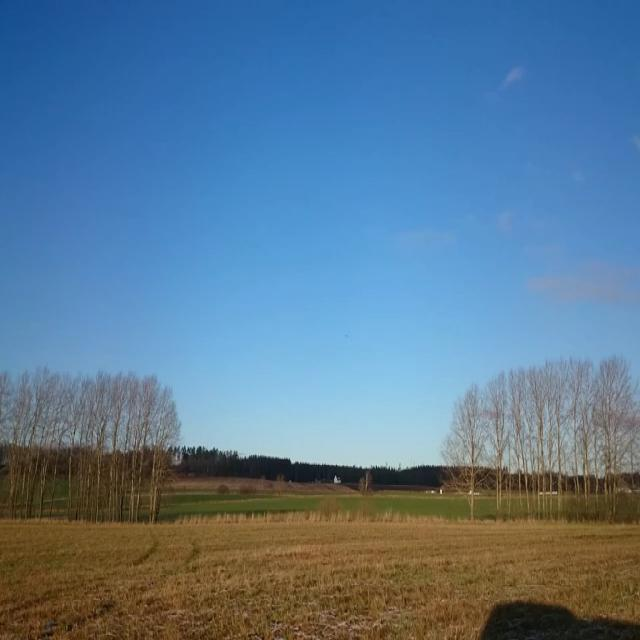Drone: (334, 322, 362, 348)
